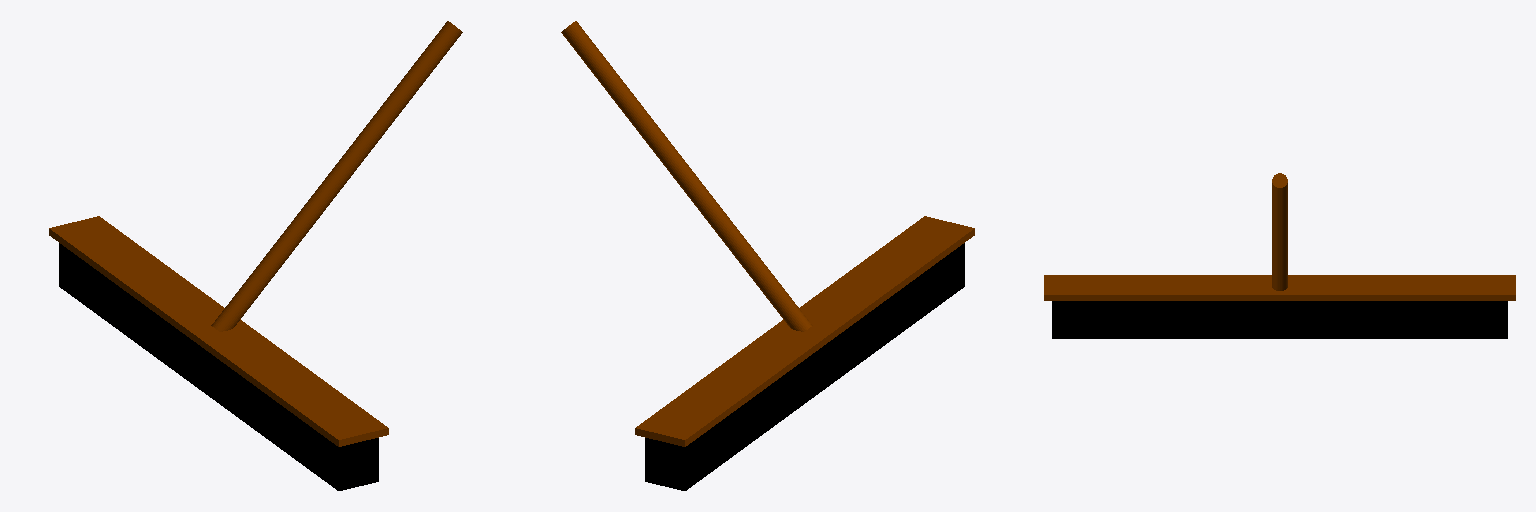
robot.urdf — r2d2:
<?xml version="1.0"?>
<robot name="r2d2">

    <material name="green">
        <color rgba="0 0 0 1"/>
    </material>

    <material name="brown">
        <color rgba="0.5 0.25 0 1"/>
    </material>

    <link name="handle">
        <visual>
            <geometry>
                <cylinder length="1" radius="0.025"/>
            </geometry>
            <material name="brown"/>
            <origin rpy="0 0.78539816339 0" xyz="-0.35355339059 0 -0.35355339059"/>
        </visual>
    </link>

    <link name="brush_support">
        <visual>
            <geometry>
                <box size="0.15 1.5 0.02"/>
            </geometry>
            <origin rpy="0 0 0" xyz="0 0 0"/>
            <material name="brown"/>
        </visual>
    </link>

    <joint name="handle_to_brush_support" type="fixed">
        <parent link="handle"/>
        <child link="brush_support"/>
        <origin rpz="0 0 0" xyz="-0.70710678 0 -0.70710678"/>
    </joint>

    <link name="brush">
        <visual>
            <geometry>
                <box size="0.12 1.45 0.15"/>
            </geometry>
            <origin rpy="0 0 0" xyz="0 0 -0.075"/>
            <material name="green"/>
        </visual>
    </link>

    <joint name="suport_to_brush" type="fixed">
        <parent link="brush_support"/>
        <child link="brush"/>
        <origin rpz="0 0 0" xyz="0 0 0"/>
    </joint>



</robot>

--- What the picture shows (computed from the rendered views, not written in the file) ---
The picture shows the robot from 3 angles, left to right: view 1: azimuth 30°, elevation 25°; view 2: azimuth 150°, elevation 25°; view 3: azimuth 270°, elevation 25°; orthographic projection.
Model r2d2 with 3 links and 2 joints (2 fixed), rooted at handle, posed all joints at 0.
Links seen in each view (by area): view 1: brush_support, brush, handle; view 2: brush_support, brush, handle; view 3: brush, brush_support, handle.
Link boxes in pixels (bbox=[...]): brush_support: bbox=[49, 216, 388, 446]; brush: bbox=[59, 243, 378, 490]; handle: bbox=[211, 21, 462, 331]; brush_support: bbox=[635, 216, 974, 446]; brush: bbox=[645, 243, 964, 490]; handle: bbox=[561, 21, 812, 331]; brush: bbox=[1052, 301, 1507, 338]; brush_support: bbox=[1044, 275, 1515, 300]; handle: bbox=[1272, 173, 1287, 290].
Size in the robot's own frame: 0.7998 by 1.5 by 0.8748 metres.
Geometry: primitives only (box / cylinder / sphere), no mesh files.